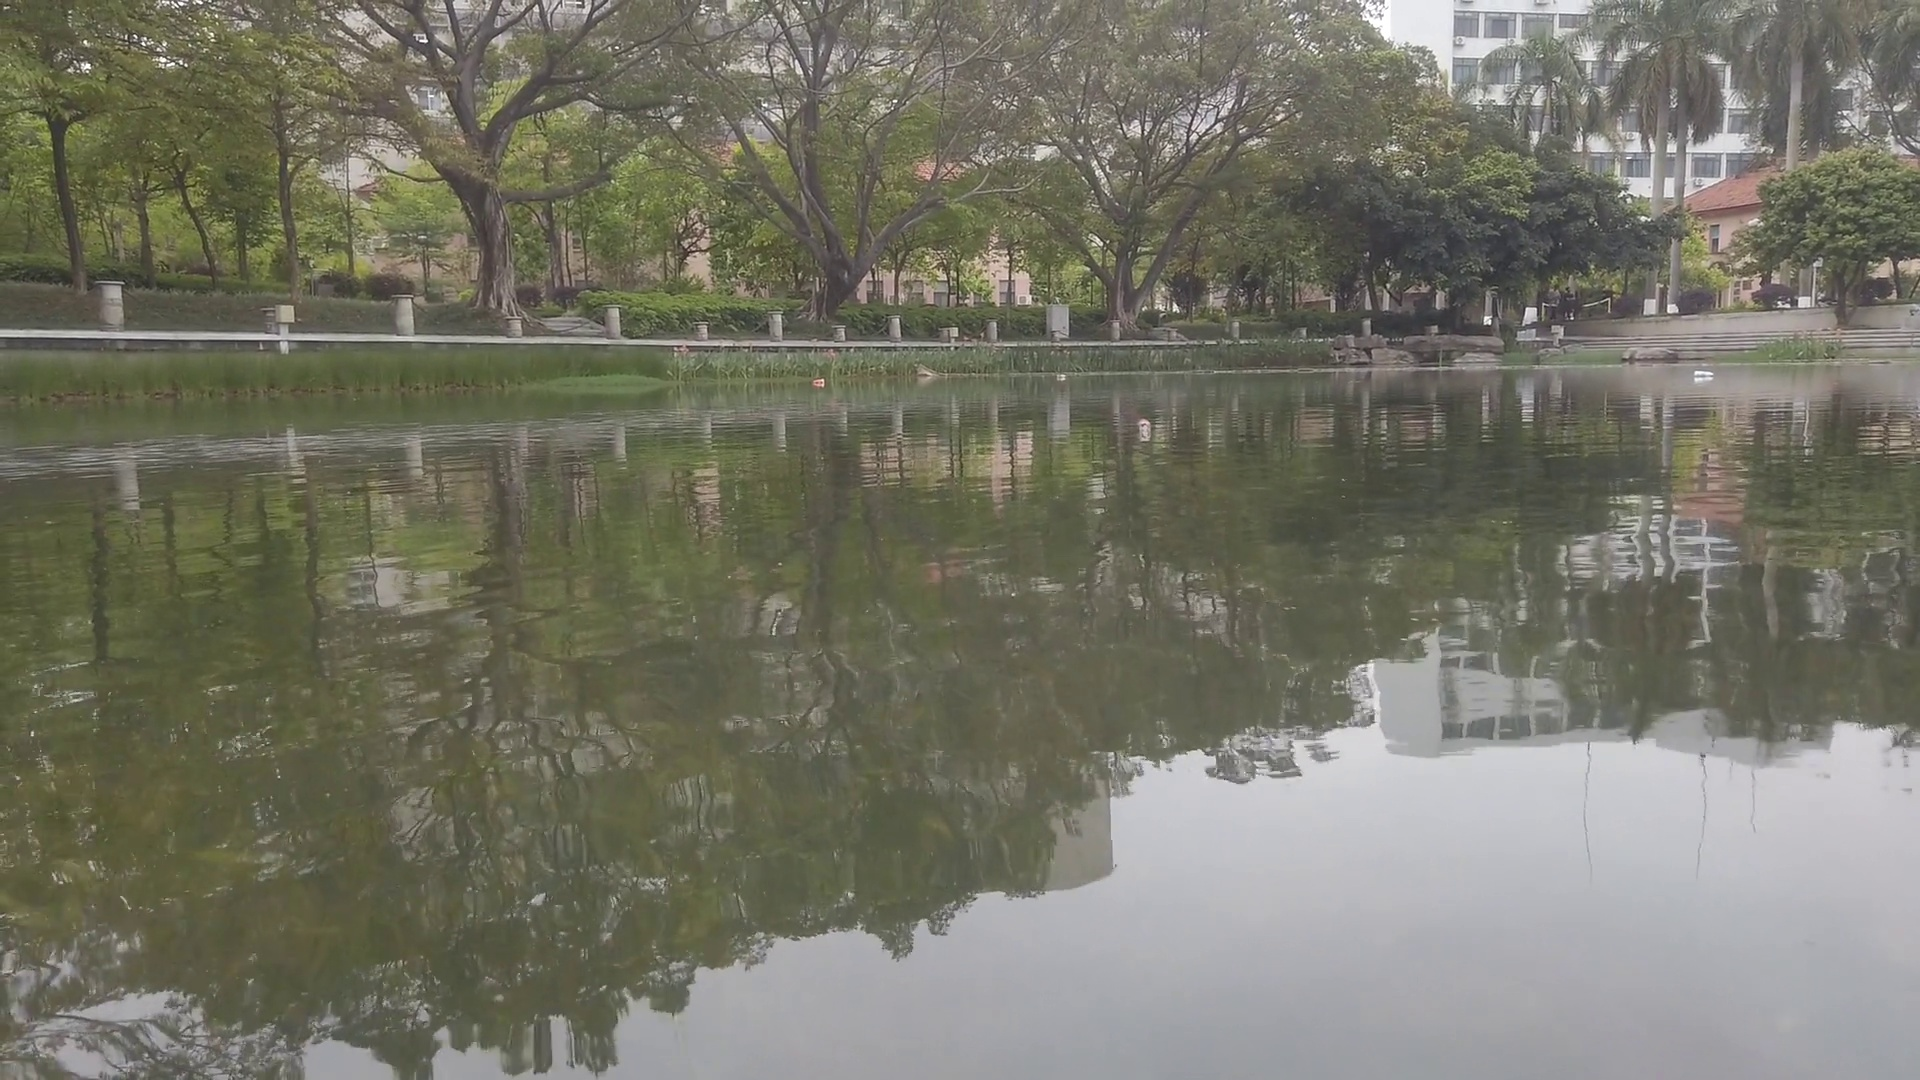bottle: (1135, 419, 1153, 433), (1695, 371, 1718, 376), (814, 378, 825, 386), (1058, 375, 1071, 380)
